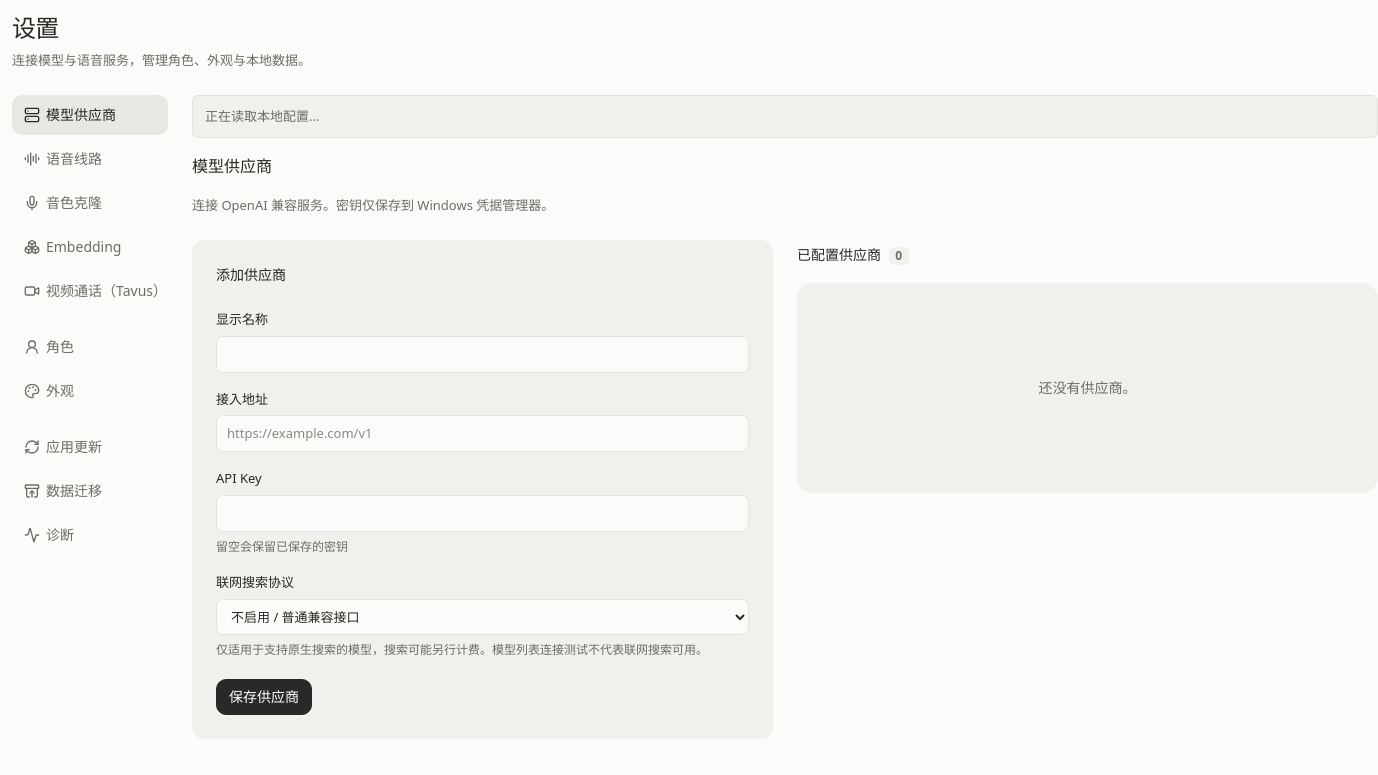
Test: SettingsPage service categories › opens providers by default and exposes one category at a time
The image size is (1378, 775).
expect the heading "设置" is shown: met, box left=12, top=11, right=58, bottom=44
expect the heading "模型供应商" is shown: met, box left=192, top=155, right=272, bottom=177
Click the button "语音线路" at {"x": 90, "y": 159}, box left=12, top=139, right=168, bottom=179
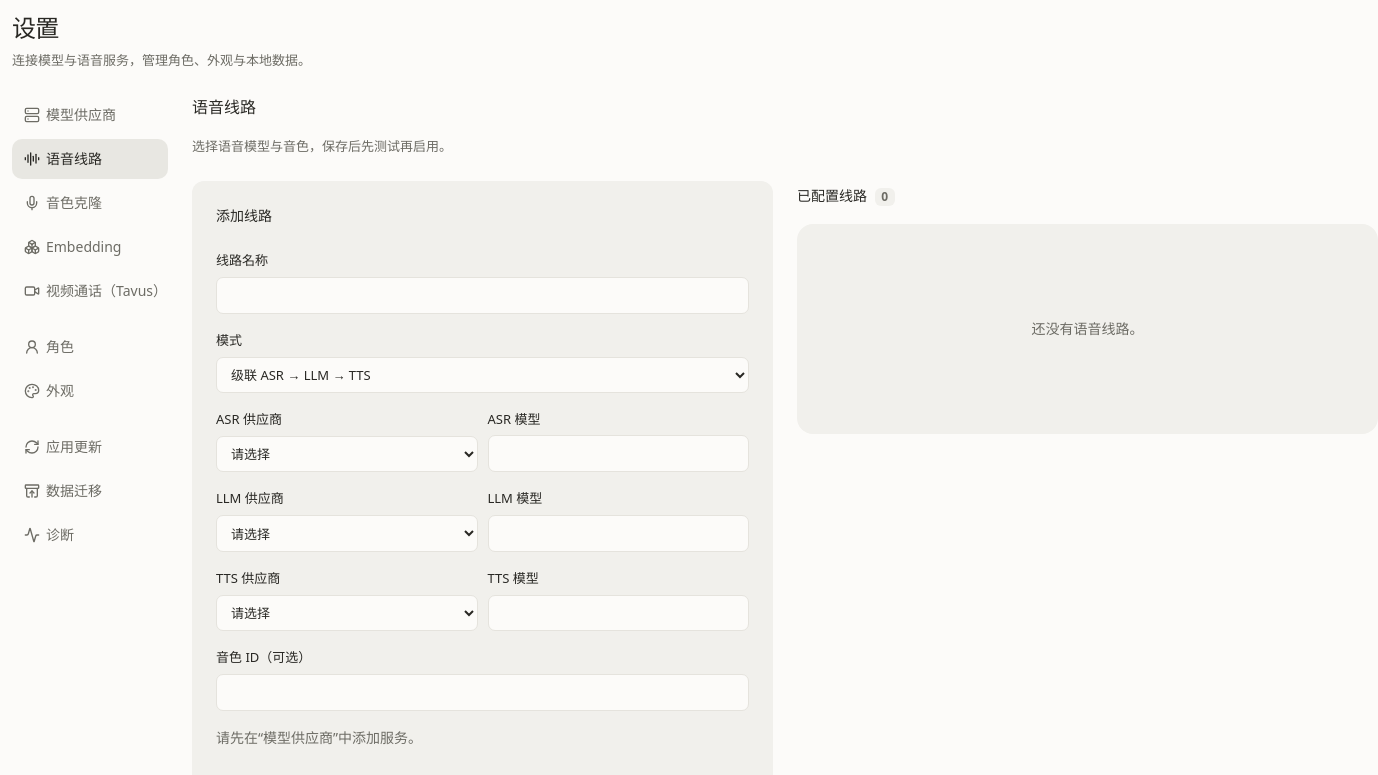
expect the heading "语音线路" is shown: met, box left=192, top=96, right=256, bottom=118
Click the button "音色克隆" at {"x": 90, "y": 203}, box left=12, top=183, right=168, bottom=223
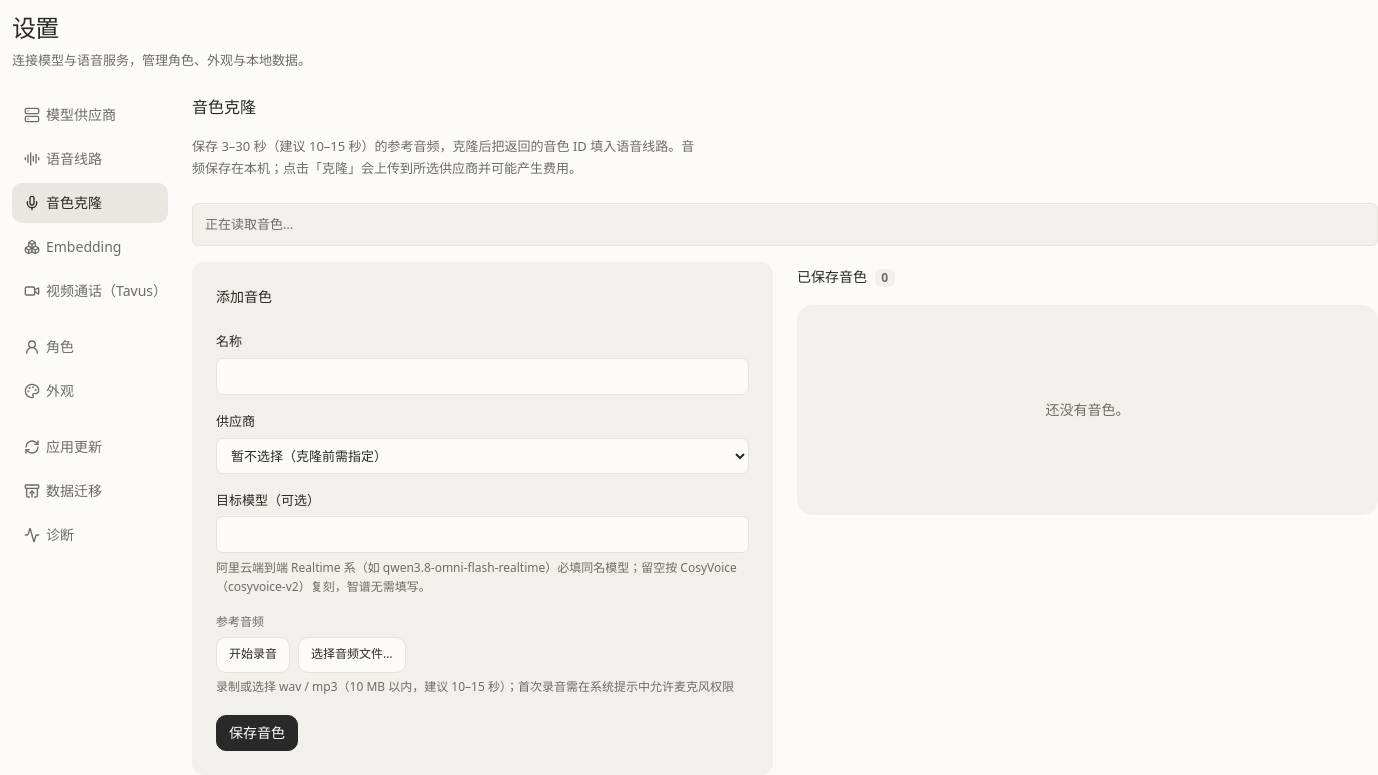
expect the heading "音色克隆" is shown: met, box left=192, top=96, right=256, bottom=118
Click the button "Embedding" at {"x": 90, "y": 247}, box left=12, top=227, right=168, bottom=267
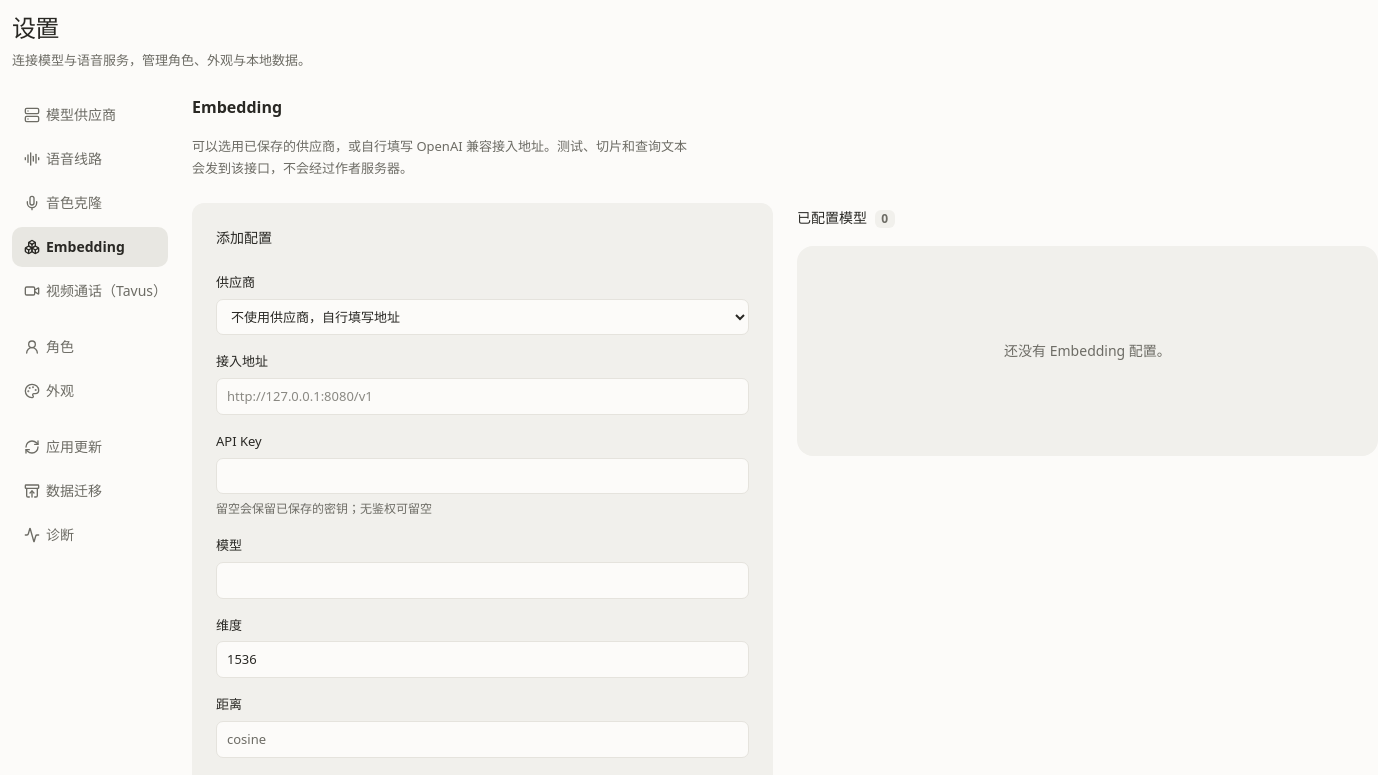
expect the heading "Embedding" is shown: met, box left=192, top=96, right=282, bottom=118
